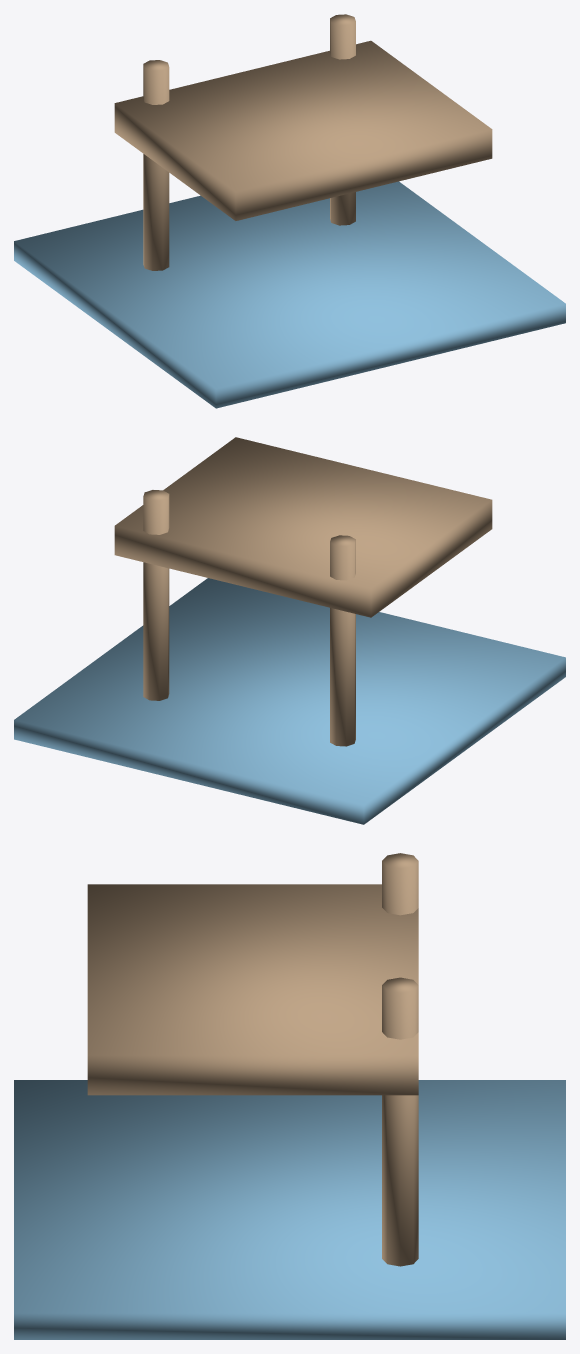
Rendered from river_boat_pier.glb.
The picture shows the model from 3 angles, top to bottom: view 1: azimuth 30°, elevation 25°; view 2: azimuth 150°, elevation 25°; view 3: azimuth 270°, elevation 25°; orthographic projection. The views are drawn at different scales.
Parts seen in each view (by area): view 1: river_surface, deck, pole_l, pole_r; view 2: river_surface, deck, pole_r, pole_l; view 3: river_surface, deck, pole_r, pole_l.
Boxes of the visible parts, x1,y1,x2,y2 form: river_surface: [14, 181, 565, 408]; deck: [114, 40, 492, 220]; pole_l: [143, 60, 169, 270]; pole_r: [330, 14, 355, 225]; river_surface: [14, 578, 565, 824]; deck: [114, 437, 492, 617]; pole_r: [143, 490, 169, 700]; pole_l: [330, 535, 355, 746]; river_surface: [14, 1080, 565, 1339]; deck: [87, 884, 418, 1095]; pole_r: [382, 977, 418, 1266]; pole_l: [382, 853, 418, 915].
Bounding box in the file's own units: 0.75 × 0.45 × 0.75.
